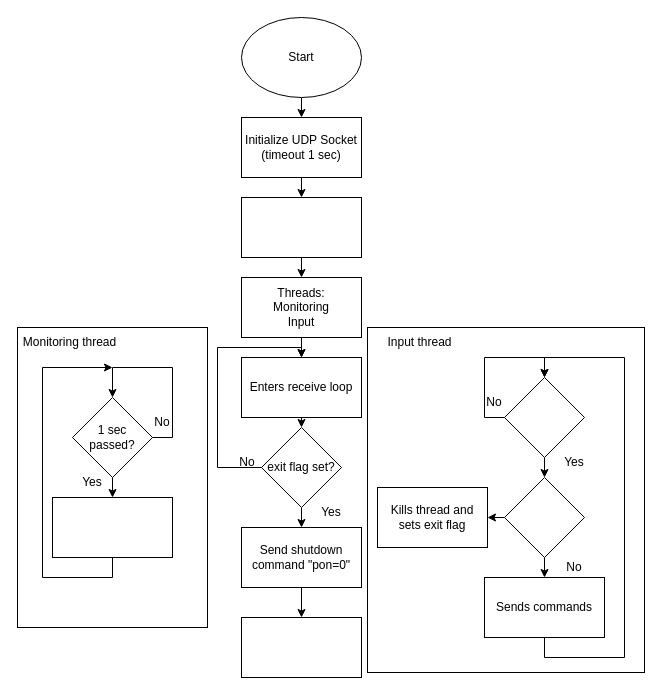
Some shapes in this 662 by 695 pixel diagram are drawn without their labels. Each missing label, with the centre of its shape:
Closes socket, stops threads: pixel 301 647
exit r eceived?: pixel 544 517
input captured?: pixel 544 417
Send Initial Command "pon=1": pixel 301 227
Sends command to receive monitoring data: pixel 112 527
